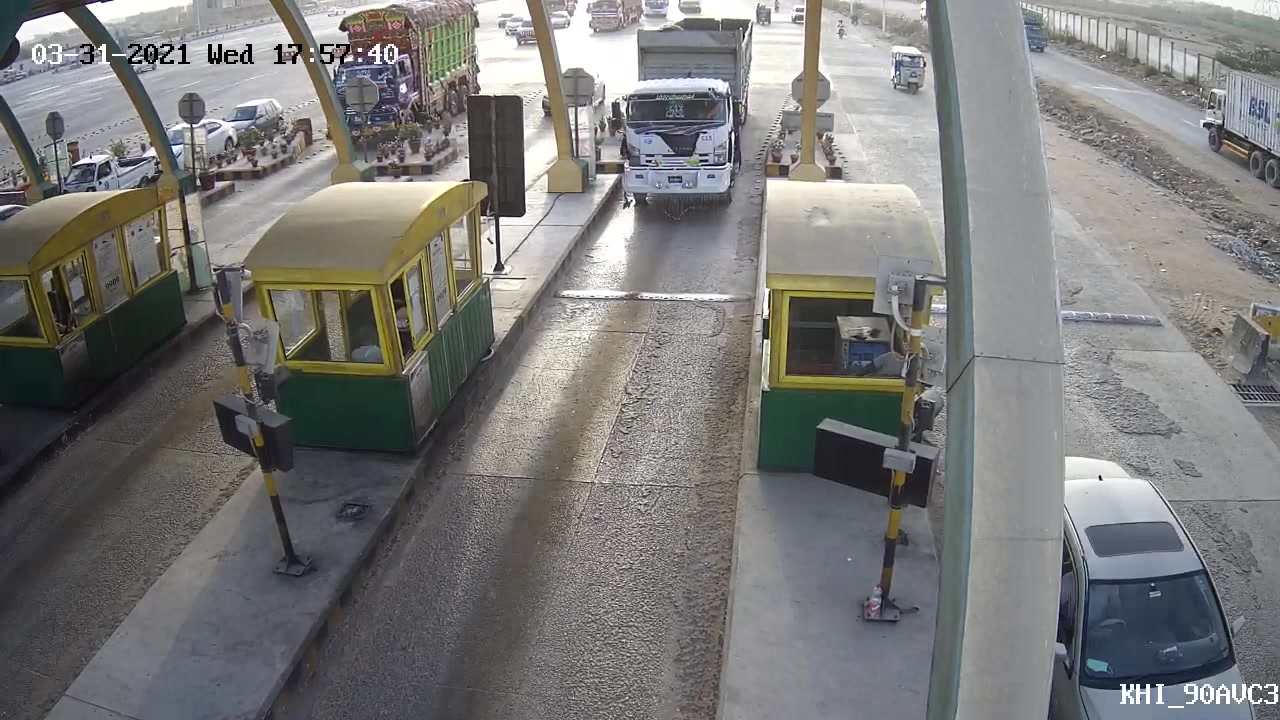F6: (601, 10, 757, 220)
